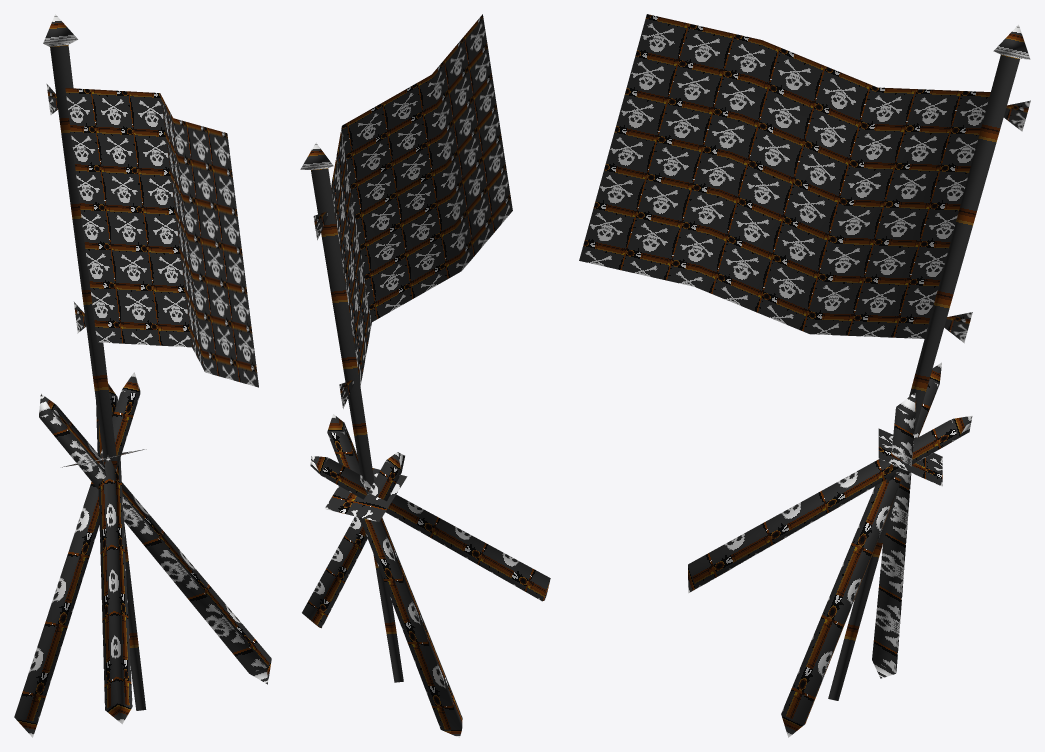
File: 3331IMIG10_10.gltf
3 views of the same model, side by side, from view 1: azimuth 30°, elevation 25°; view 2: azimuth 150°, elevation 25°; view 3: azimuth 270°, elevation 25° (orthographic). The views are drawn at different scales.
Visible parts, largest first — view 1: 3331IMIG10_10; view 2: 3331IMIG10_10; view 3: 3331IMIG10_10.
Boxes of the visible parts, x1,y1,x2,y2 form: 3331IMIG10_10: [14, 14, 271, 737]; 3331IMIG10_10: [300, 14, 550, 737]; 3331IMIG10_10: [579, 14, 1030, 737].
Bounding box in the file's own units: 0.4514 × 1.34 × 0.7748.
1 material, 1 textured.
